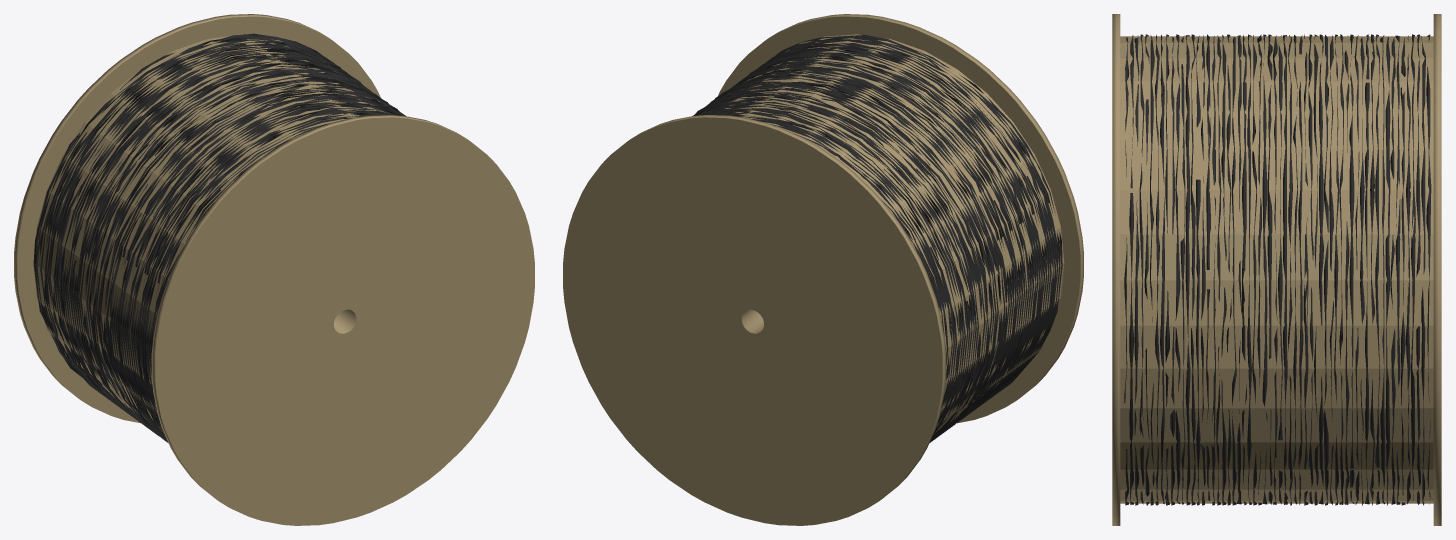
Rendered from cable-reel-black.glb.
3 views of the same model, side by side, from view 1: azimuth 30°, elevation 25°; view 2: azimuth 150°, elevation 25°; view 3: azimuth 270°, elevation 25° (orthographic). The views are drawn at different scales.
Parts seen in each view (by area): view 1: CableRollThin; view 2: CableRollThin; view 3: CableRollThin.
Boxes of the visible parts, x1,y1,x2,y2 form: CableRollThin: (14, 14, 534, 525); CableRollThin: (563, 14, 1083, 525); CableRollThin: (1112, 14, 1441, 525).
Size of the model in its own units: 0.6 by 0.6 by 0.3865.
